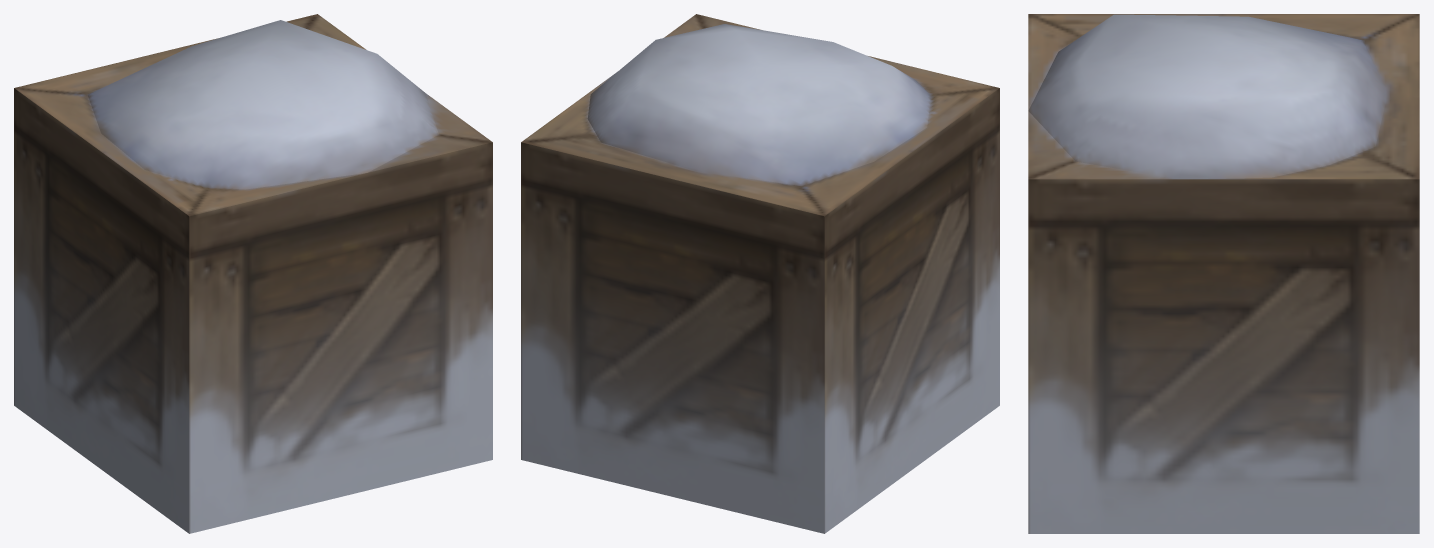
Rendered from env_oren_boxA.fbx.
3 renders of one model, left to right at view 1: azimuth 30°, elevation 25°; view 2: azimuth 150°, elevation 25°; view 3: azimuth 270°, elevation 25°, orthographic. The views are drawn at different scales.
Parts seen in each view (by area): view 1: env_oren_boxA; view 2: env_oren_boxA; view 3: env_oren_boxA.
Boxes of the visible parts, left/top/right/bottom form: env_oren_boxA: left=14, top=14, right=492, bottom=533; env_oren_boxA: left=521, top=14, right=999, bottom=533; env_oren_boxA: left=1028, top=14, right=1419, bottom=533.
Size of the model in its own units: 100 by 116 by 100.
1 material, 1 textured.
